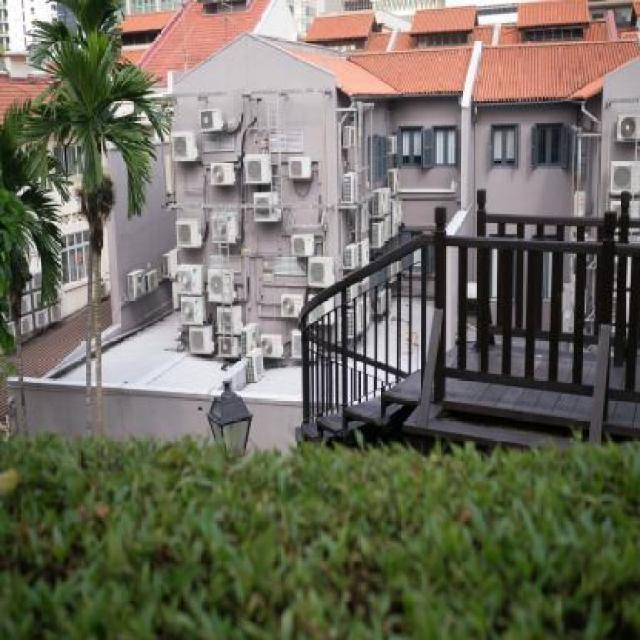stair: (292, 340, 478, 454)
